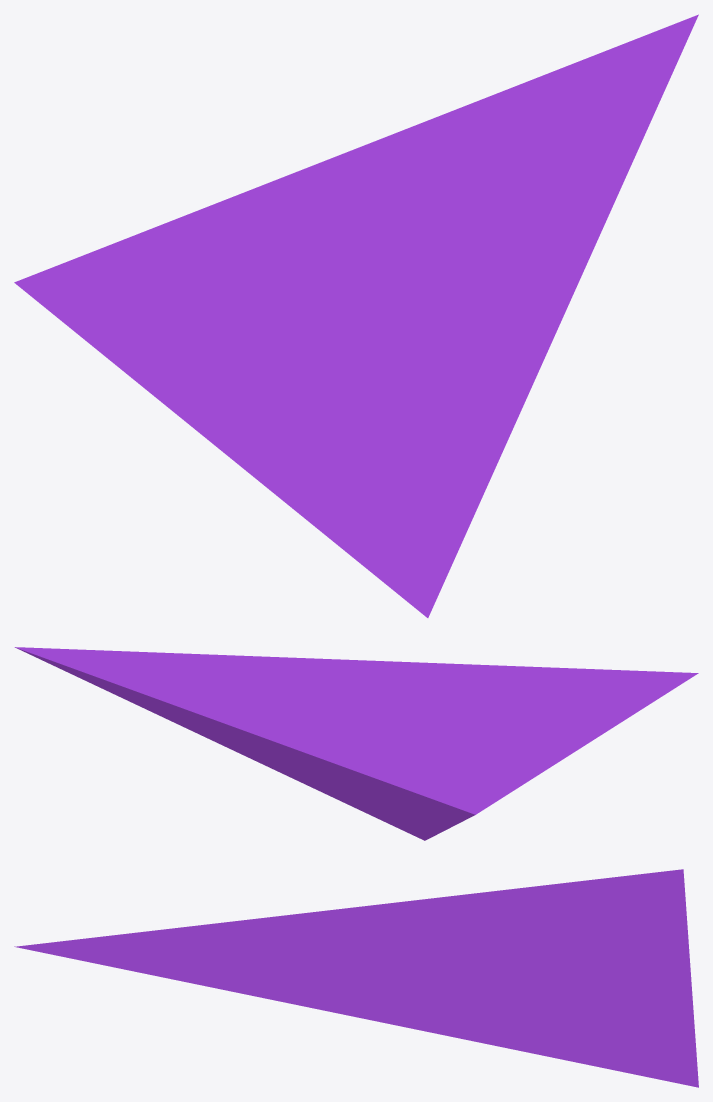
File: Glass_101_0_6_chunks.fbx
3 renders of one model, top to bottom at view 1: azimuth 30°, elevation 25°; view 2: azimuth 150°, elevation 25°; view 3: azimuth 270°, elevation 25°, orthographic. The views are drawn at different scales.
Visible parts, largest first — view 1: Glass_101_0_6_0; view 2: Glass_101_0_6_0; view 3: Glass_101_0_6_0.
Boxes of the visible parts, box(x1,y1,x2,y2) form: Glass_101_0_6_0: box(14, 14, 698, 617); Glass_101_0_6_0: box(14, 647, 698, 840); Glass_101_0_6_0: box(14, 869, 698, 1087).
Bounding box in the file's own units: 76.51 × 22.13 × 73.67.
